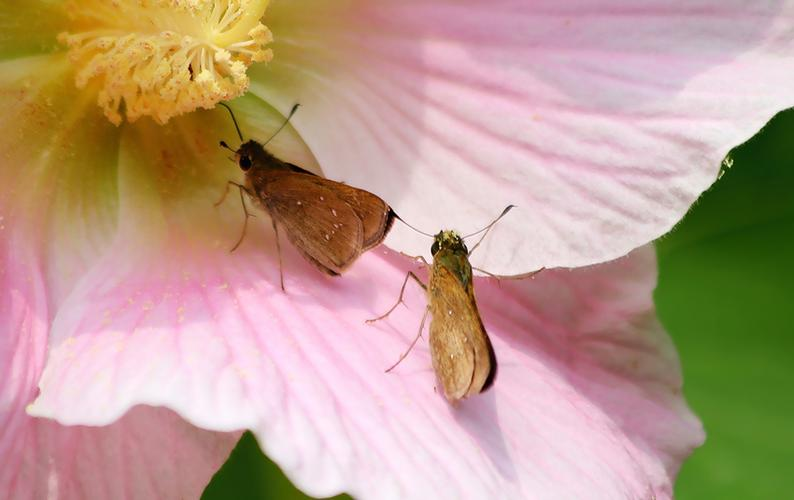Hesperiidae: (197, 87, 397, 289), (378, 195, 540, 407)
